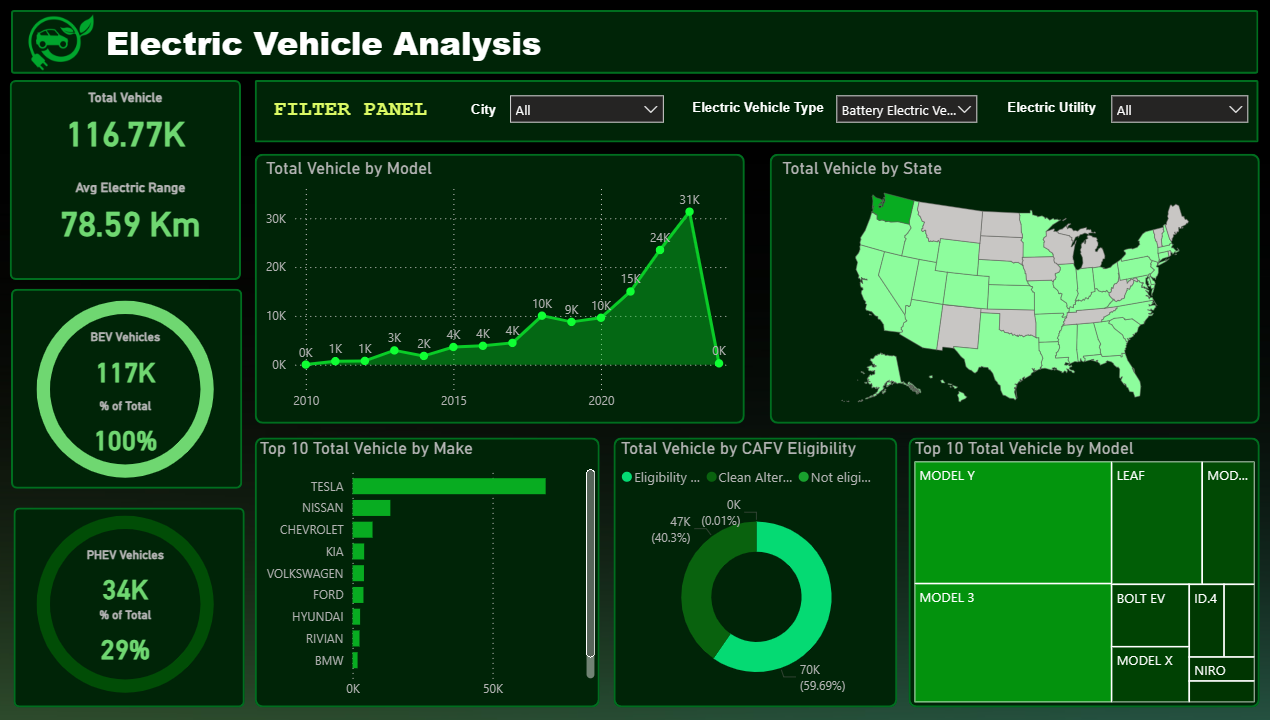

The page's visual inventory and layout, read from the dashboard file:
{"tool":"powerbi","page":{"name":"Page 1","canvas":[1280,720],"ordinal":0},"visuals":[{"type":"group","id":"g1","title":"Title Group","box":[15,10,1247.5,63.8],"z":0},{"type":"shape","box":[15,10,1247.5,63.8],"z":0,"group":"g1"},{"type":"shape","box":[13.8,80,231.2,200],"z":0,"group":"g2"},{"type":"shape","box":[258.8,80,1003.8,62.5],"z":0,"group":"g5"},{"type":"shape","box":[258.8,153.8,490,270],"z":0,"group":"g7"},{"type":"shape","box":[773.8,153.8,490,270],"z":0,"group":"g6"},{"type":"shape","box":[15,288.8,231.2,200],"z":0,"group":"g3"},{"type":"shape","box":[258.8,437.5,345,270],"z":0,"group":"g8"},{"type":"shape","box":[617.5,437.5,283.8,270],"z":0,"group":"g9"},{"type":"shape","box":[912.5,437.5,351.2,270],"z":0,"group":"g10"},{"type":"shape","box":[17.5,507.6,231.2,200],"z":0,"group":"g4"},{"type":"textbox","box":[105,15,446.2,58.8],"z":1000,"group":"g1"},{"type":"group","id":"g2","title":"KPI Group","box":[13.8,80,231.2,200],"z":1000},{"type":"textbox","box":[272.6,92.5,196.2,37.5],"z":1000,"group":"g5"},{"type":"stackedAreaChart","title":"Total Vehicle by Model","fields":{"Y":["aMeasure table (2).Total Vehicle"],"Category":["Electric_Vehicle_Population_Data.Model Year"]},"box":[265,157.6,476.2,261.2],"z":1000,"group":"g7"},{"type":"shapeMap","fields":{"Category":["Electric_Vehicle_Population_Data.State"],"Value":["aMeasure table (2).Total Vehicle"]},"box":[781.3,157.6,476.2,261.2],"z":1000,"group":"g6"},{"type":"card","title":"Avg Electric Range","fields":{"Values":["aMeasure table (2).Avg Electric Range"]},"box":[45,180,178.8,68.8],"z":1000,"group":"g2"},{"type":"donutChart","fields":{"Category":["Electric_Vehicle_Population_Data.Electric Vehicle Type"],"Y":["aMeasure table (2).Total Vehicle"]},"box":[0,273.8,258.8,231.2],"z":1000,"group":"g3"},{"type":"barChart","title":"Top 10 Total Vehicle by Make","fields":{"Y":["aMeasure table (2).Total Vehicle"],"Category":["Electric_Vehicle_Population_Data.Make"]},"box":[258.8,437.5,345,270],"z":1000,"group":"g8"},{"type":"donutChart","title":"Total Vehicle by CAFV Eligibility","fields":{"Y":["aMeasure table (2).Total Vehicle"],"Category":["Electric_Vehicle_Population_Data.Clean Alternative Fuel Vehicle (CAFV) Eligibility"]},"box":[620,437.5,281.2,270],"z":1000,"group":"g9"},{"type":"treemap","title":"Top 10 Total Vehicle by Model","fields":{"Values":["aMeasure table (2).Total Vehicle"],"Group":["Electric_Vehicle_Population_Data.Model"]},"box":[913.7,437.5,350,270],"z":1000,"group":"g10"},{"type":"donutChart","fields":{"Category":["Electric_Vehicle_Population_Data.Electric Vehicle Type"],"Y":["aMeasure table (2).Total Vehicle"]},"box":[0,488.8,258.8,231.2],"z":1000,"group":"g4"},{"type":"card","title":"Total Vehicle","fields":{"Values":["aMeasure table (2).Total Vehicle"]},"box":[40,90,178.8,68.8],"z":2000,"group":"g2"},{"type":"textbox","box":[470,95,66.2,32.5],"z":2000,"group":"g5"},{"type":"group","id":"g3","title":"BEV Vehicle Group","box":[0,273.8,258.8,231.2],"z":2000},{"type":"card","title":"BEV Vehicles","fields":{"Values":["aMeasure table (2).BEV Vehicles"]},"box":[40,330,178.8,68.8],"z":2000,"group":"g3"},{"type":"card","title":"PHEV Vehicles","fields":{"Values":["aMeasure table (2).PHEV Vehicle"]},"box":[40,547.6,178.8,68.8],"z":2000,"group":"g4"},{"type":"textbox","box":[691.3,92.5,188.8,37.5],"z":3000,"group":"g5"},{"type":"card","title":"% of Total","fields":{"Values":["aMeasure table (2).BEV Percentage"]},"box":[40,398.8,178.8,68.8],"z":3000,"group":"g3"},{"type":"group","id":"g4","title":"PHEV Vehicle Group","box":[0,488.8,258.8,231.2],"z":3000},{"type":"card","title":"% of Total","fields":{"Values":["aMeasure table (2).PHEV Percentage"]},"box":[40,607.6,178.8,68.8],"z":3000,"group":"g4"},{"type":"group","id":"g5","title":"Filter  Panel Group","box":[258.8,80,1003.8,62.5],"z":4000},{"type":"textbox","box":[1006.3,92.5,198.8,37.5],"z":4000,"group":"g5"},{"type":"slicer","fields":{"Values":["Electric_Vehicle_Population_Data.Electric Utility"]},"box":[1105,85,157.5,52.5],"z":5000,"group":"g5"},{"type":"group","id":"g6","title":"Tot Vehicles By State Group","box":[773.8,153.8,490,270],"z":5000},{"type":"slicer","fields":{"Values":["Electric_Vehicle_Population_Data.City"]},"box":[503.8,85,173.8,52.5],"z":6000,"group":"g5"},{"type":"group","id":"g7","title":"Tot Vehicles By Model Group","box":[258.8,153.8,490,270],"z":6000},{"type":"slicer","fields":{"Values":["Electric_Vehicle_Population_Data.Electric Vehicle Type"]},"box":[830,85,161.2,52.5],"z":7000,"group":"g5"},{"type":"group","id":"g8","title":"Top 10 Tot Vehicles by Make","box":[258.8,437.5,345,270],"z":7000},{"type":"group","id":"g9","title":"Total vehicles by CAFV Eligibility","box":[617.5,437.5,283.8,270],"z":8000},{"type":"group","id":"g10","title":"Top 10 Total Vehicles by Model","box":[912.5,437.5,351.2,270],"z":9000},{"type":"image","box":[21.2,8.8,87.5,67.5],"z":9001}]}

Visuals, with their boxes in screenshot pixels (x1, y1, x2, y2), scaled from the page's 1280x720 canvas onto the 1270x720 screenshot:
"Title Group" group: x1=15 y1=10 x2=1253 y2=74
shape: x1=15 y1=10 x2=1253 y2=74
shape: x1=14 y1=80 x2=243 y2=280
shape: x1=257 y1=80 x2=1253 y2=142
shape: x1=257 y1=154 x2=743 y2=424
shape: x1=768 y1=154 x2=1254 y2=424
shape: x1=15 y1=289 x2=244 y2=489
shape: x1=257 y1=438 x2=599 y2=708
shape: x1=613 y1=438 x2=894 y2=708
shape: x1=905 y1=438 x2=1254 y2=708
shape: x1=17 y1=508 x2=247 y2=708
textbox: x1=104 y1=15 x2=547 y2=74
"KPI Group" group: x1=14 y1=80 x2=243 y2=280
textbox: x1=270 y1=92 x2=465 y2=130
"Total Vehicle by Model" stackedAreaChart: x1=263 y1=158 x2=735 y2=419
shapeMap - Electric_Vehicle_Population_Data.State x aMeasure table (2).Total Vehicle: x1=775 y1=158 x2=1248 y2=419
"Avg Electric Range" card: x1=45 y1=180 x2=222 y2=249
donutChart - Electric_Vehicle_Population_Data.Electric Vehicle Type x aMeasure table (2).Total Vehicle: x1=0 y1=274 x2=257 y2=505
"Top 10 Total Vehicle by Make" barChart: x1=257 y1=438 x2=599 y2=708
"Total Vehicle by CAFV Eligibility" donutChart: x1=615 y1=438 x2=894 y2=708
"Top 10 Total Vehicle by Model" treemap: x1=907 y1=438 x2=1254 y2=708
donutChart - Electric_Vehicle_Population_Data.Electric Vehicle Type x aMeasure table (2).Total Vehicle: x1=0 y1=489 x2=257 y2=719
"Total Vehicle" card: x1=40 y1=90 x2=217 y2=159
textbox: x1=466 y1=95 x2=532 y2=128
"BEV Vehicle Group" group: x1=0 y1=274 x2=257 y2=505
"BEV Vehicles" card: x1=40 y1=330 x2=217 y2=399
"PHEV Vehicles" card: x1=40 y1=548 x2=217 y2=616
textbox: x1=686 y1=92 x2=873 y2=130
"% of Total" card: x1=40 y1=399 x2=217 y2=468
"PHEV Vehicle Group" group: x1=0 y1=489 x2=257 y2=719
"% of Total" card: x1=40 y1=608 x2=217 y2=676
"Filter  Panel Group" group: x1=257 y1=80 x2=1253 y2=142
textbox: x1=998 y1=92 x2=1196 y2=130
slicer - Electric_Vehicle_Population_Data.Electric Utility: x1=1096 y1=85 x2=1253 y2=138
"Tot Vehicles By State Group" group: x1=768 y1=154 x2=1254 y2=424
slicer - Electric_Vehicle_Population_Data.City: x1=500 y1=85 x2=672 y2=138
"Tot Vehicles By Model Group" group: x1=257 y1=154 x2=743 y2=424
slicer - Electric_Vehicle_Population_Data.Electric Vehicle Type: x1=824 y1=85 x2=983 y2=138
"Top 10 Tot Vehicles by Make" group: x1=257 y1=438 x2=599 y2=708
"Total vehicles by CAFV Eligibility" group: x1=613 y1=438 x2=894 y2=708
"Top 10 Total Vehicles by Model" group: x1=905 y1=438 x2=1254 y2=708
image: x1=21 y1=9 x2=108 y2=76
